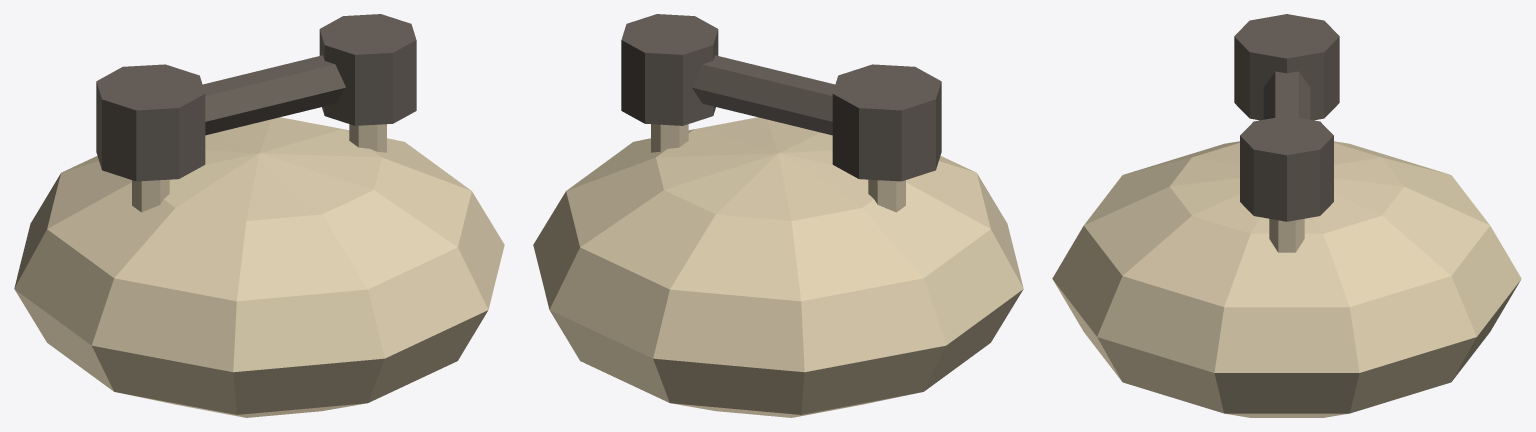
The model's file is telephone.glb.
The picture shows the model from 3 angles, left to right: view 1: azimuth 30°, elevation 25°; view 2: azimuth 150°, elevation 25°; view 3: azimuth 270°, elevation 25°; orthographic projection. The views are drawn at different scales.
Visible parts, largest first — view 1: Telephone; view 2: Telephone; view 3: Telephone.
Boxes of the visible parts, x1,y1,x2,y2 form: Telephone: (14, 14, 504, 417); Telephone: (533, 14, 1023, 417); Telephone: (1052, 14, 1521, 417).
Bounding box in the file's own units: 0.1522 × 0.1125 × 0.16.
